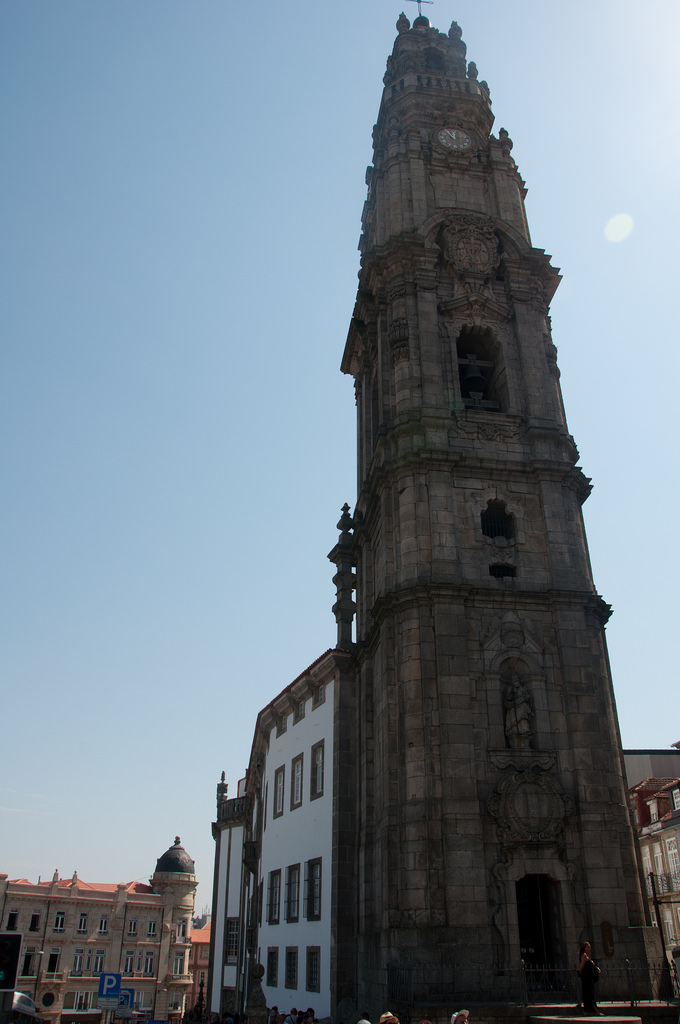clerigos: (328, 0, 661, 1006)
